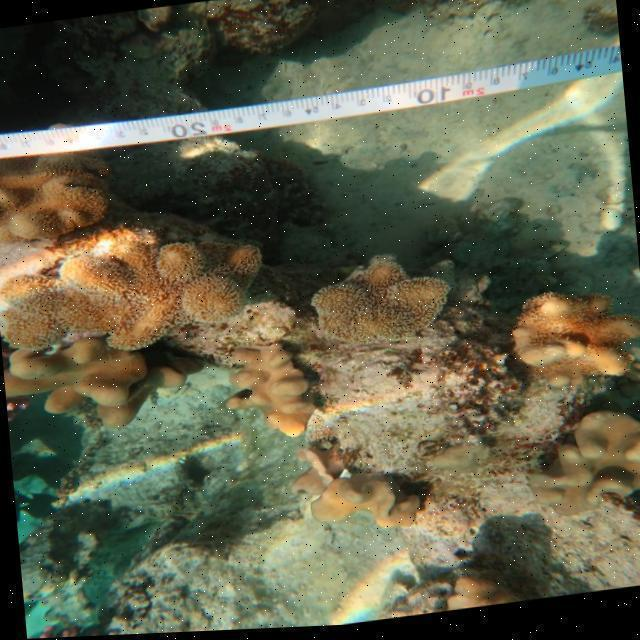Healthy Coral: (0, 218, 279, 362), (1, 325, 185, 444), (496, 282, 640, 401), (302, 249, 447, 358), (527, 405, 640, 533), (0, 143, 126, 248), (214, 335, 323, 449), (300, 464, 422, 550)
